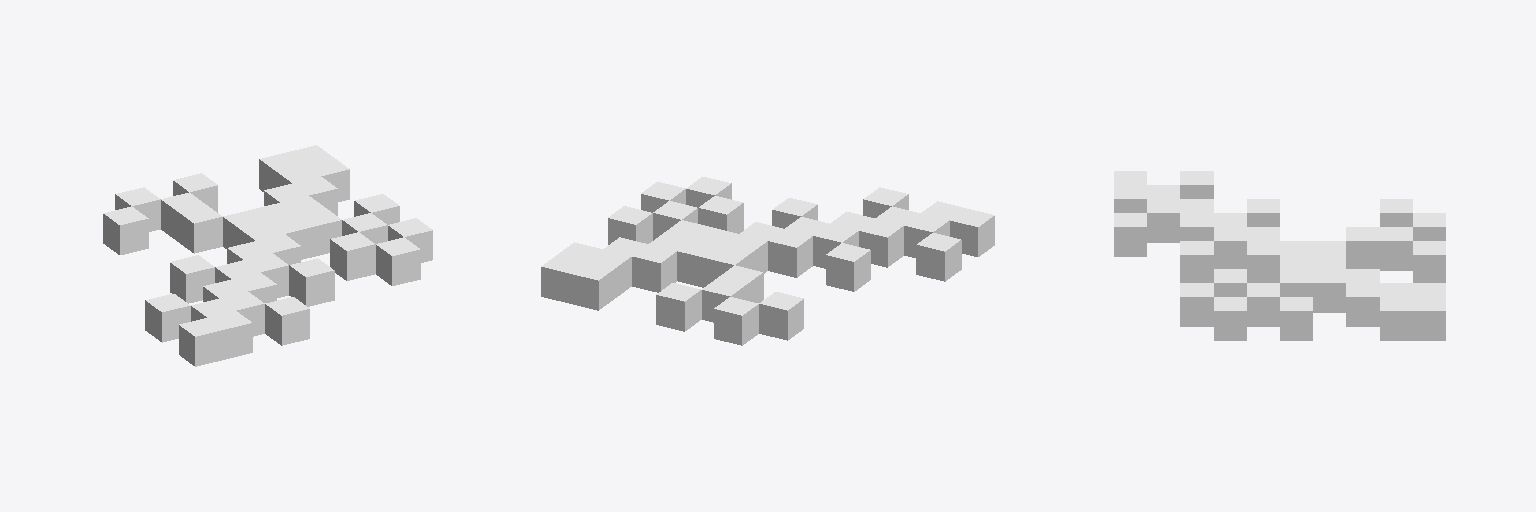
File: Ast.obj
3 renders of one model, left to right at view 1: azimuth 30°, elevation 25°; view 2: azimuth 150°, elevation 25°; view 3: azimuth 270°, elevation 25°, orthographic.
Parts seen in each view (by area): view 1: object 1; view 2: object 1; view 3: object 1.
Part boxes in pixels (x1,y1,x2,y2): object 1: (103, 145, 432, 366); object 1: (541, 177, 994, 345); object 1: (1114, 171, 1445, 340).
Size of the model in its own units: 1 by 0.1 by 1.